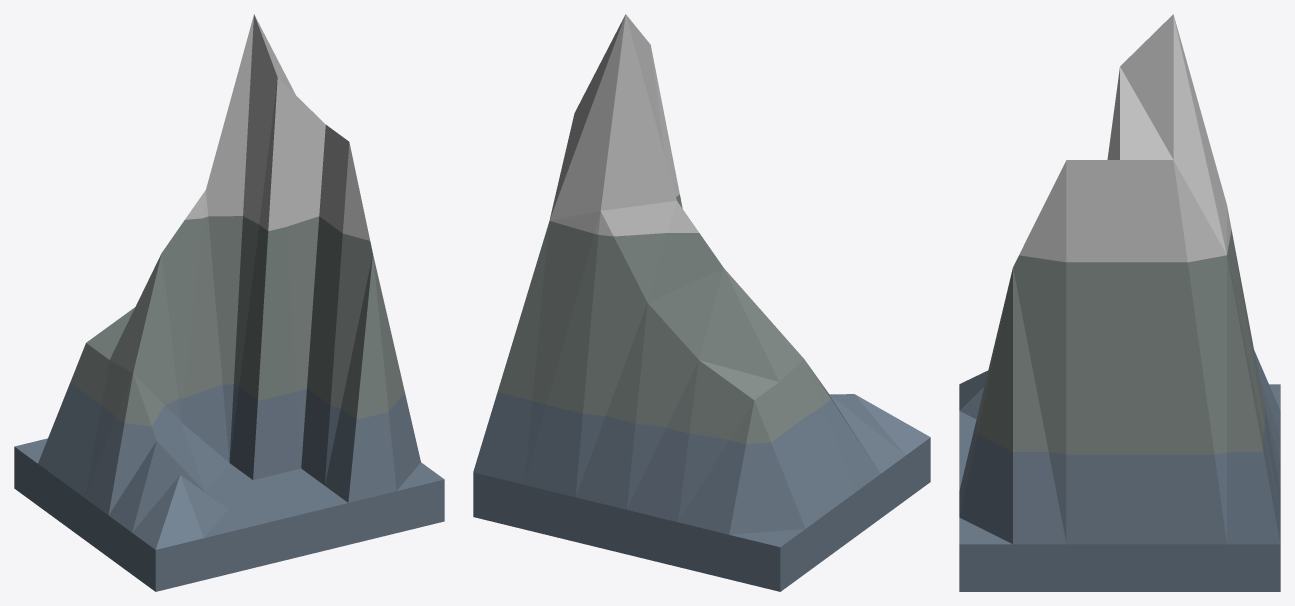
The model's file is Mountain.fbx.
The picture shows the model from 3 angles, left to right: view 1: azimuth 30°, elevation 25°; view 2: azimuth 150°, elevation 25°; view 3: azimuth 270°, elevation 25°; orthographic projection. The views are drawn at different scales.
Visible parts, largest first — view 1: Mountain(3); view 2: Mountain(3); view 3: Mountain(3).
Boxes of the visible parts, x1,y1,x2,y2 form: Mountain(3): (14,14,444,591); Mountain(3): (473,14,930,591); Mountain(3): (959,14,1280,591).
Bounding box in the file's own units: 1440 × 2200 × 1220.
